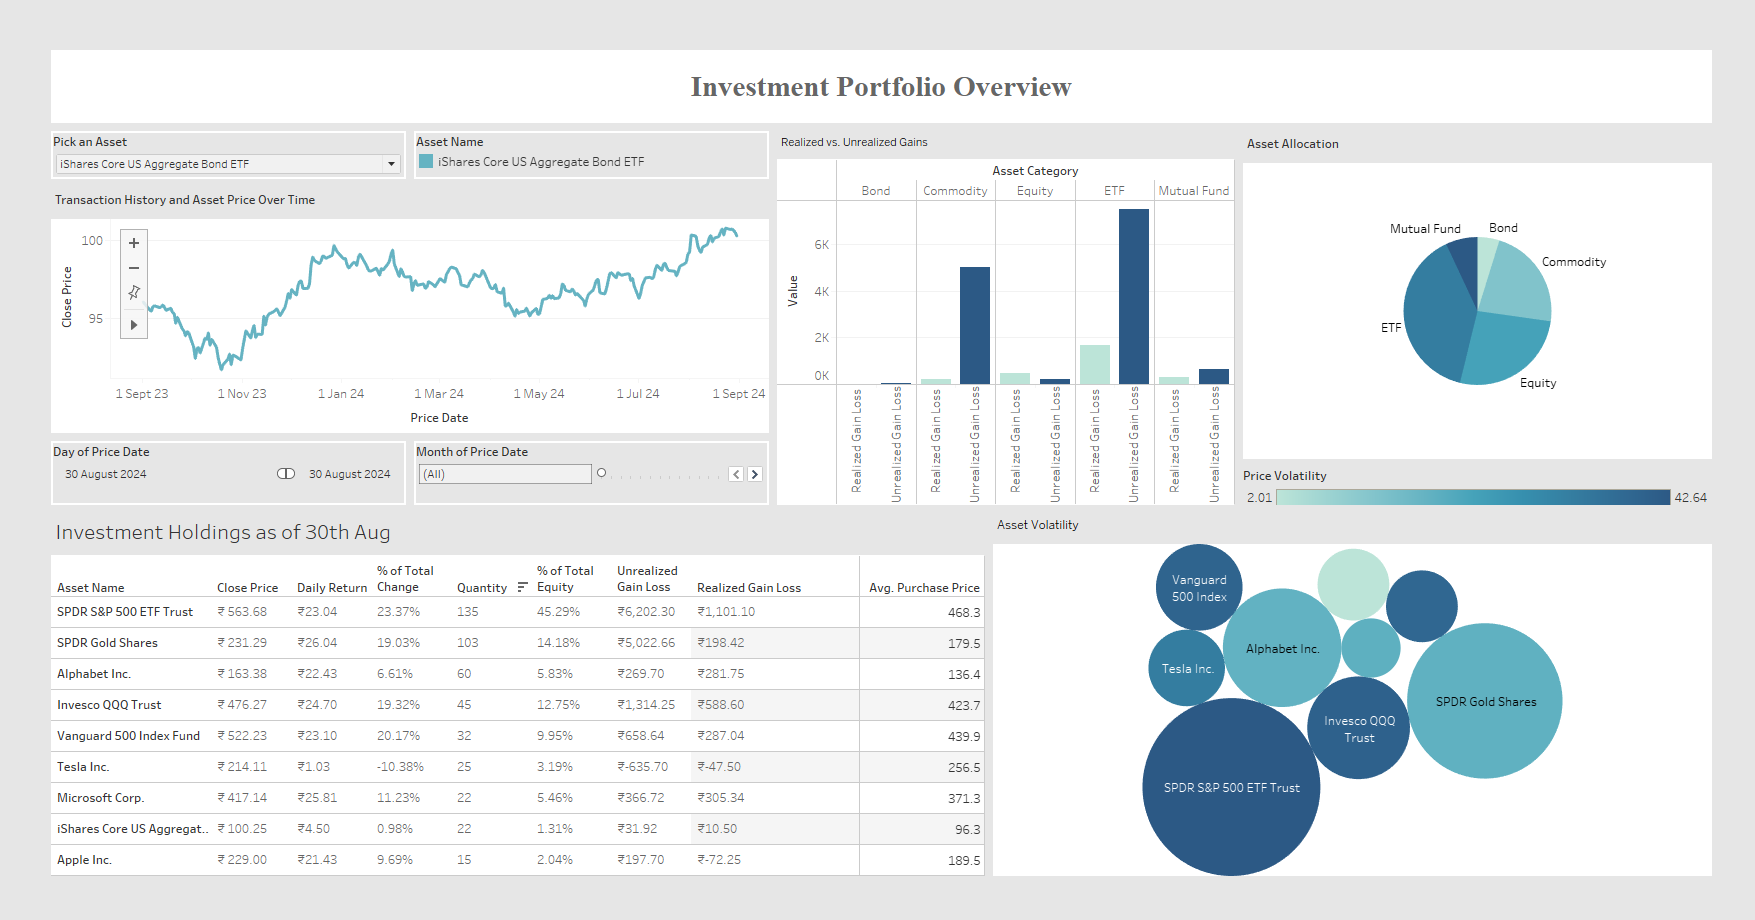

The page's visual inventory and layout, read from the dashboard file:
{"tool":"tableau","page":{"name":"Main DashBoard","canvas":[1685,850],"ordinal":1},"visuals":[{"type":"text","box":[8,8,1669,81.4]},{"type":"filter","title":"Line Chart","param":"[federated.1d0ekr60fo26aq141t6500whyyjw].[none:AssetName:nk]","box":[8,89.4,363.1,55.6]},{"type":"legend","title":"Line Chart","param":"[federated.1d0ekr60fo26aq141t6500whyyjw].[none:AssetName:nk]","box":[371.1,89.4,363.1,55.6]},{"type":"worksheet","title":"BarChart1","mark":"Automatic","cols":["AssetCategory"],"box":[734.1,89.4,465.9,381.5]},{"type":"worksheet","title":"Pie Chart","mark":"Pie","box":[1200,89.4,477,335.6]},{"type":"worksheet","title":"Line Chart","mark":"Line","rows":["ClosePrice"],"cols":["PriceDate"],"box":[8,145,726.1,254]},{"type":"filter","title":"Investment Holdings","param":"[federated.1d0ekr60fo26aq141t6500whyyjw].[tdy:PriceDate:qk]","box":[8,399,363,72]},{"type":"filter","title":"Line Chart","param":"[federated.1d0ekr60fo26aq141t6500whyyjw].[mn:PriceDate:ok]","box":[371,399,363.1,72]},{"type":"legend","title":"Bubble Chart","param":"[federated.1d0ekr60fo26aq141t6500whyyjw].[sum:PriceVolatility:qk]","box":[1200,425,477,46]},{"type":"worksheet","title":"Investment Holdings","mark":"Automatic","rows":["AssetName","ClosePrice","DailyReturn","Calculation_1092404446951403520","Quantity","Calculation_1092404446951649281","UnrealizedGainLoss","RealizedGainLoss"],"box":[8,471,942,371]},{"type":"worksheet","title":"Bubble Chart","mark":"Circle","box":[950,471,727,371]}]}

Visuals, with their boxes on the page's 1685x850 design canvas (x1, y1, x2, y2). These are canvas units, not pixel positions in the 1755x920 screenshot, which may show the page scaled, cropped or inside an application window:
text: 8 8 1677 89
"Line Chart" filter: 8 89 371 145
"Line Chart" legend: 371 89 734 145
"BarChart1" worksheet: 734 89 1200 471
"Pie Chart" worksheet (Pie marks): 1200 89 1677 425
"Line Chart" worksheet (Line marks): 8 145 734 399
"Investment Holdings" filter: 8 399 371 471
"Line Chart" filter: 371 399 734 471
"Bubble Chart" legend: 1200 425 1677 471
"Investment Holdings" worksheet: 8 471 950 842
"Bubble Chart" worksheet (Circle marks): 950 471 1677 842
